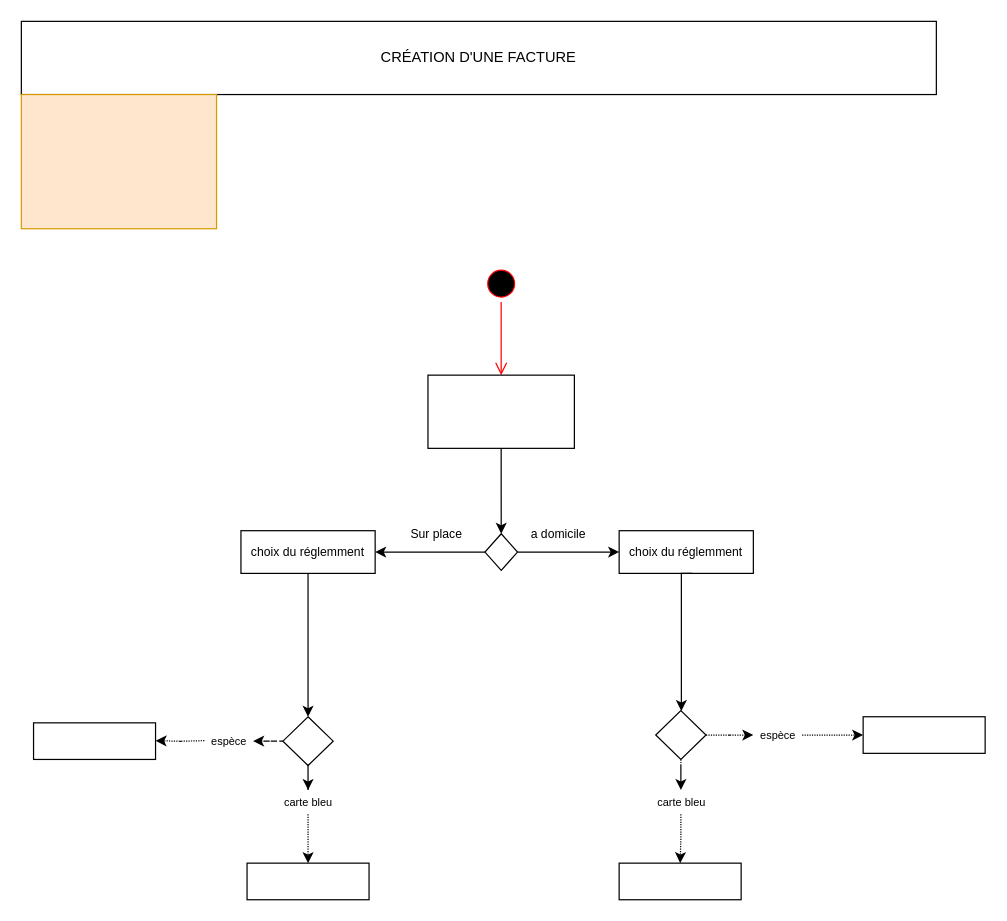
This 1007x921 diagram has some shape labels left out. The shapes that lost their labels are listed below. From the top down, each one's centre as x and y in pixels, then its label:
At (118,161): "Au préalable l'utilisateur doit : avoir crée un compte && valider une commende".
At (500,411): "Type de livraison".
